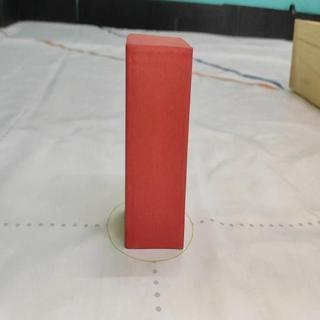redbox: (124, 32, 192, 251)
